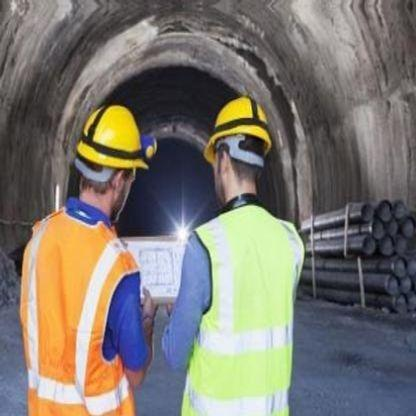helmet: (73, 104, 149, 171), (204, 96, 273, 150)
vest: (20, 201, 143, 413), (185, 211, 302, 412)
